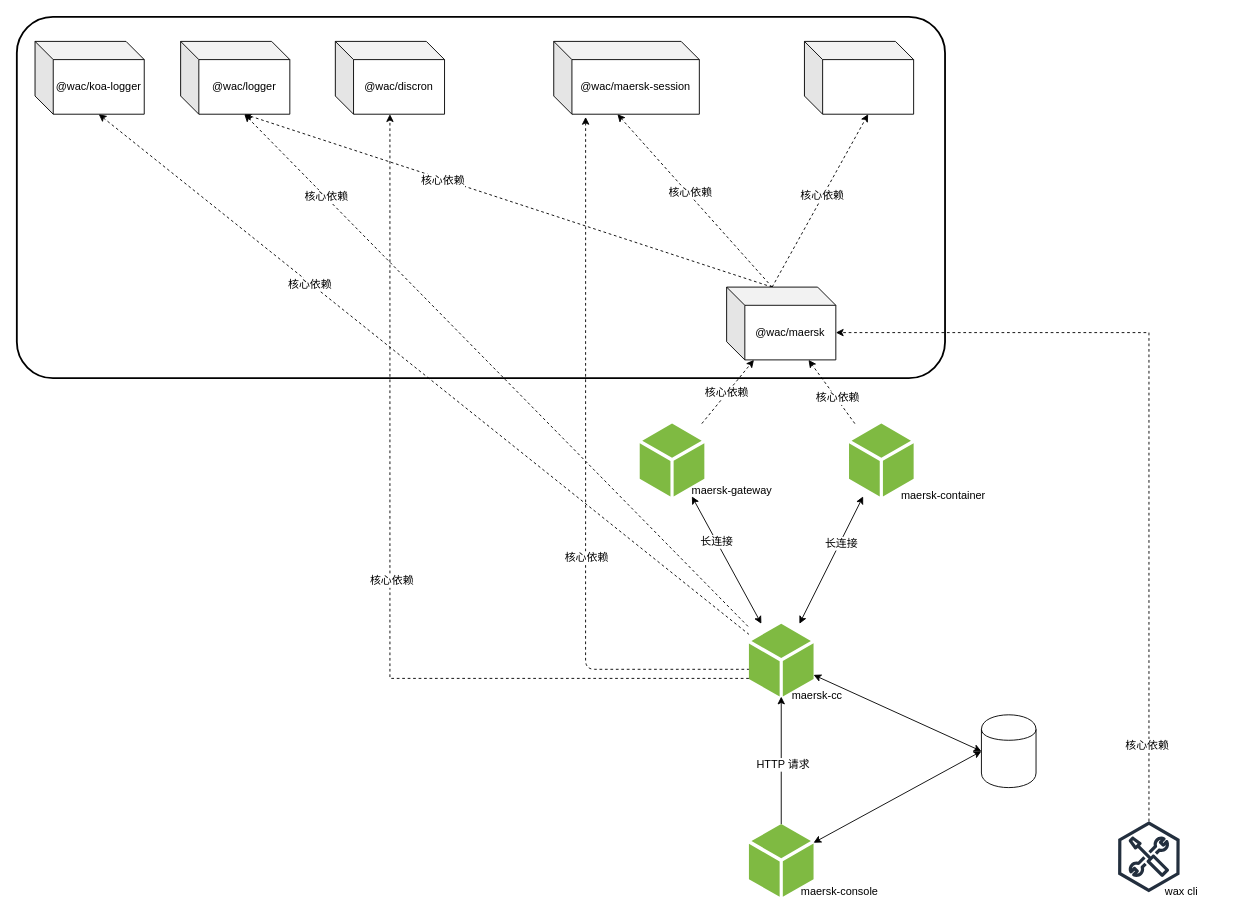
The diagram is 1233 pixels wide and 921 high, and some of its shapes have lost their labels. Here are the shapes that lost their labels. From the top down, the box of each, then its label:
(804, 40, 914, 114): @wac/can
(981, 714, 1036, 788): mysql
